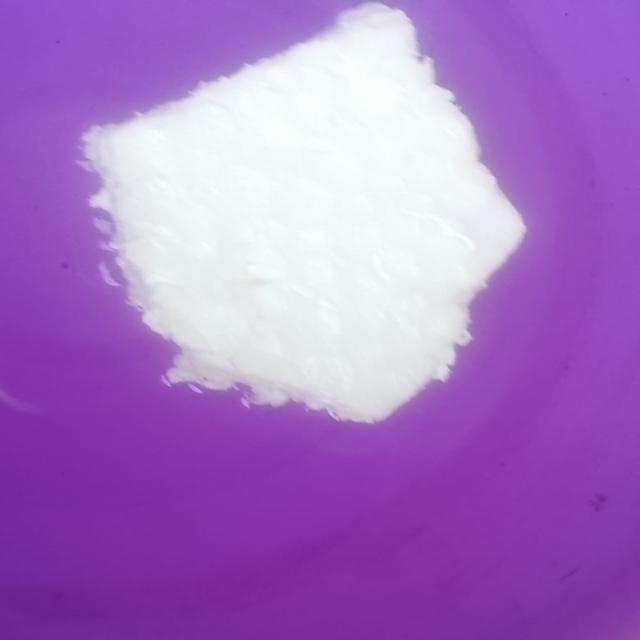thermocoal: (78, 16, 530, 430)
